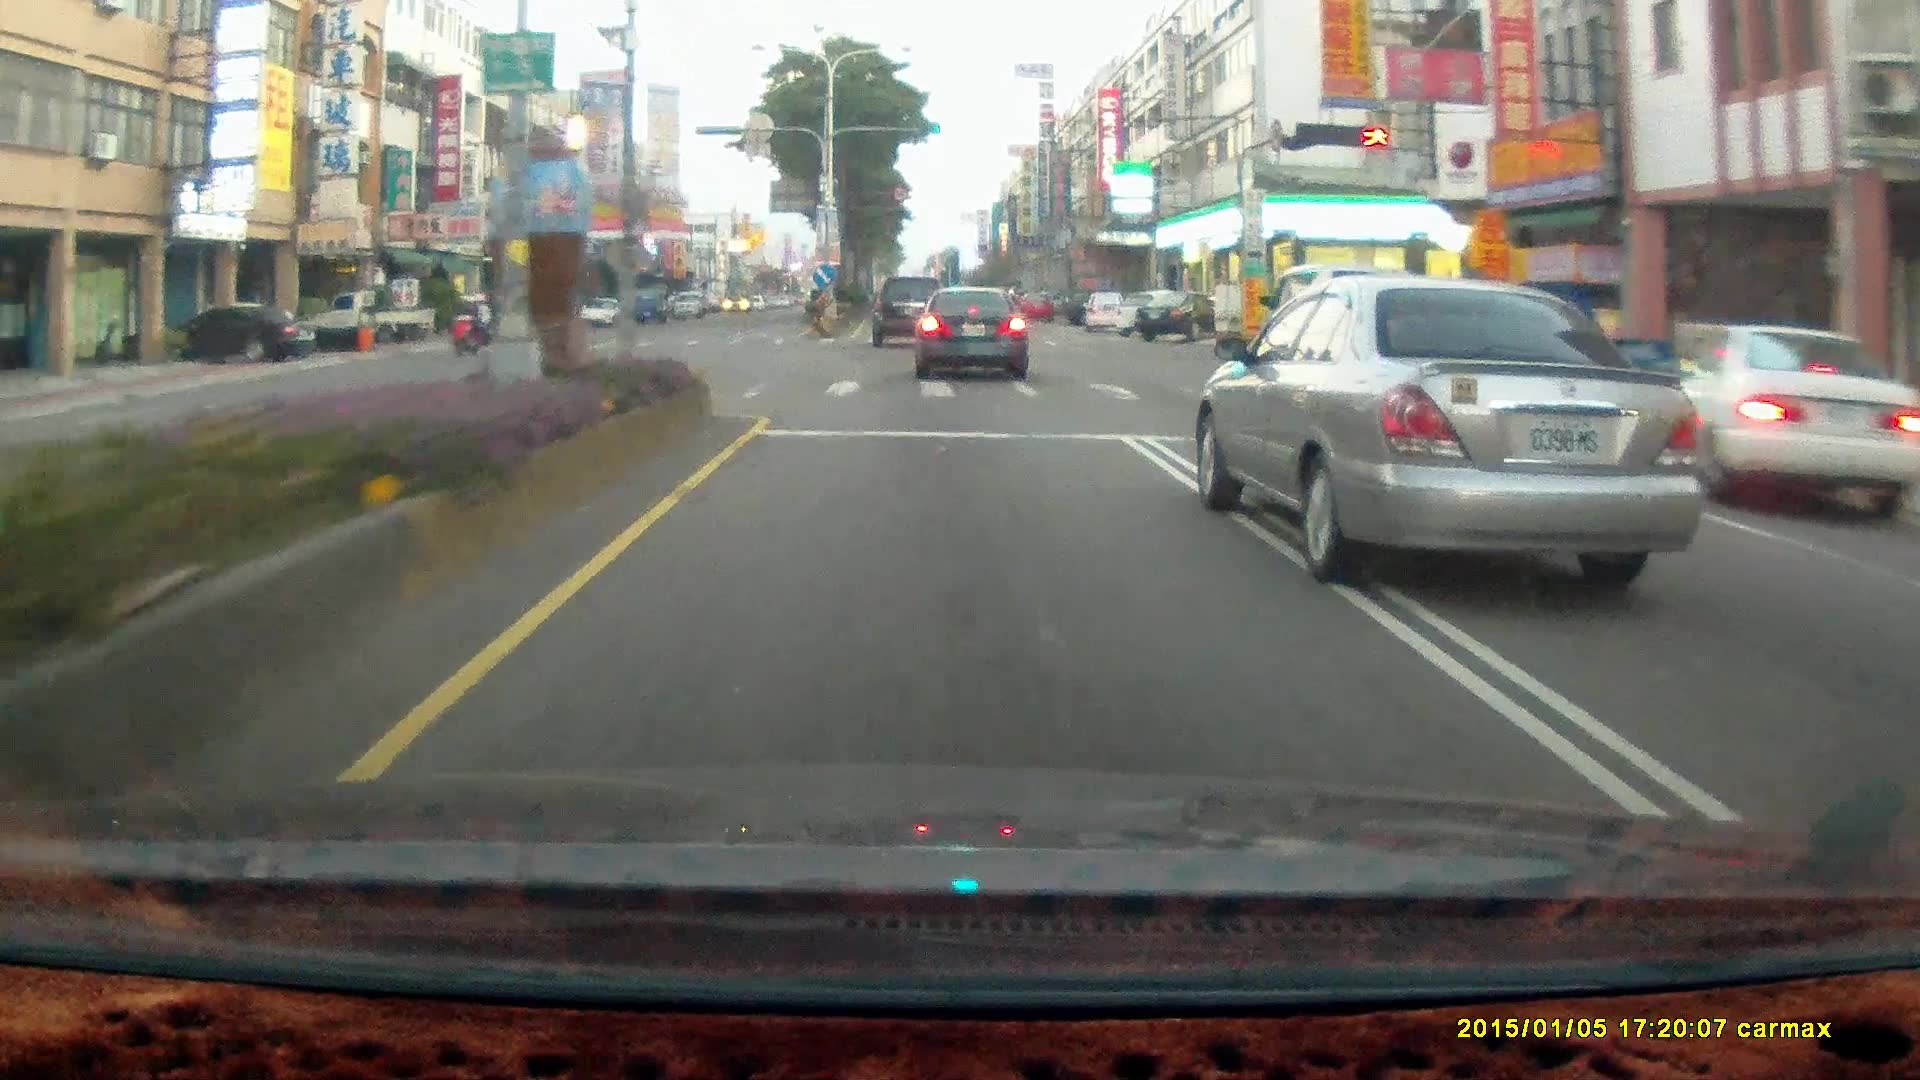rider: (453, 291, 492, 350)
vehicle: (1191, 270, 1705, 578), (1651, 322, 1918, 518), (1661, 326, 1920, 521), (1445, 278, 1678, 444), (1266, 264, 1451, 392), (915, 284, 1031, 381), (914, 282, 1027, 378), (148, 302, 312, 359), (316, 289, 438, 353), (303, 286, 433, 345), (187, 303, 317, 363), (874, 271, 958, 348), (874, 271, 950, 343), (1136, 284, 1230, 336), (1138, 288, 1215, 347), (1113, 289, 1174, 333), (1079, 286, 1129, 328), (1061, 283, 1115, 322), (1085, 291, 1128, 335), (580, 295, 623, 324), (1016, 287, 1051, 317), (634, 292, 664, 321), (667, 288, 699, 312)
